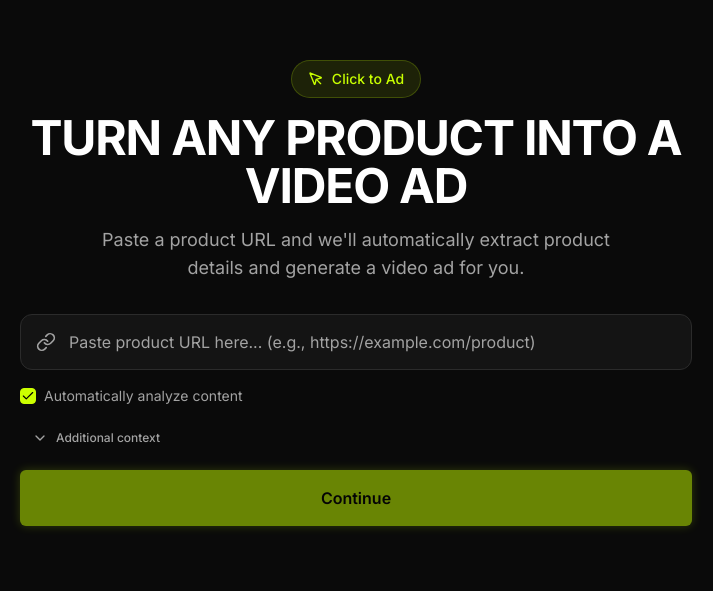
it: ClickToAdUrlStep › additional context section expands and collapses
The width and height of the screenshot is (713, 591).
# Click to expand
What coordinates should you click on to do the following:
click the button with test id "additional-context-toggle"
I would click on:
 (96, 438)
Its box is [20, 422, 172, 454].
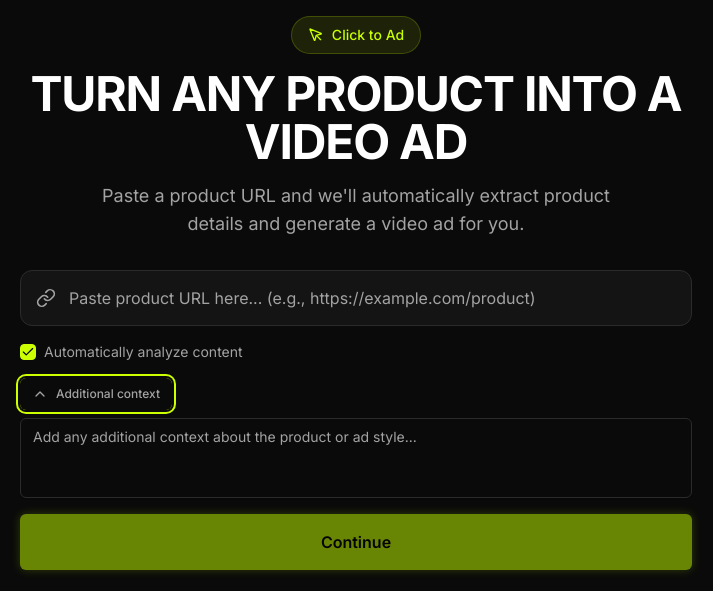
Check: the text box with test id "additional-context-input" is shown, box [20, 418, 692, 498]
# Click to collapse
What coordinates should you click on to do the following:
click the button with test id "additional-context-toggle"
I would click on:
 (96, 394)
Its box is [20, 378, 172, 410].
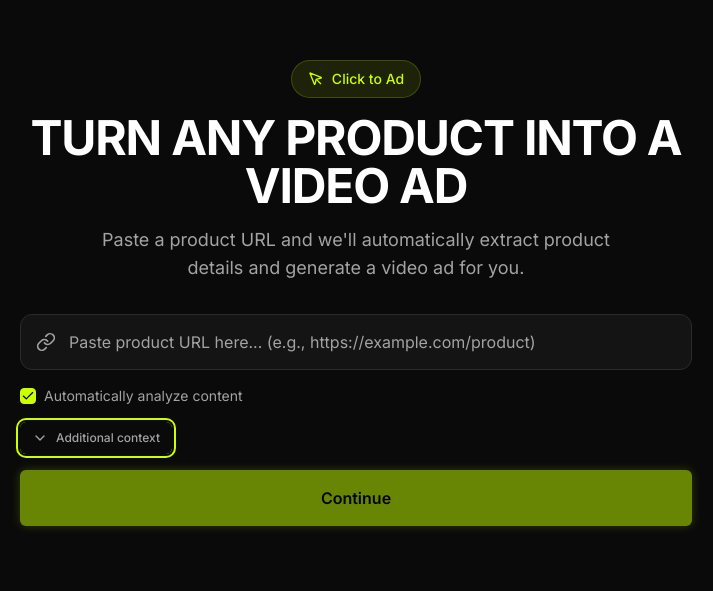
Check: the text box with test id "additional-context-input" is gone
